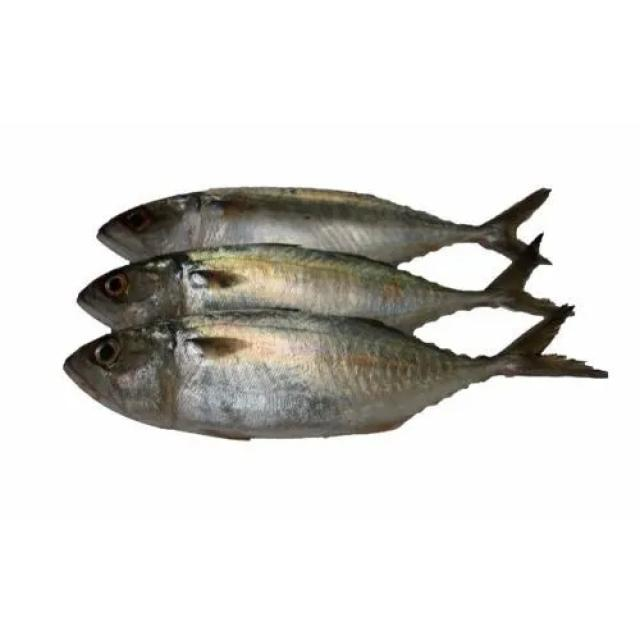Mackerel: (65, 305, 608, 439), (78, 239, 556, 333), (98, 188, 550, 266)
